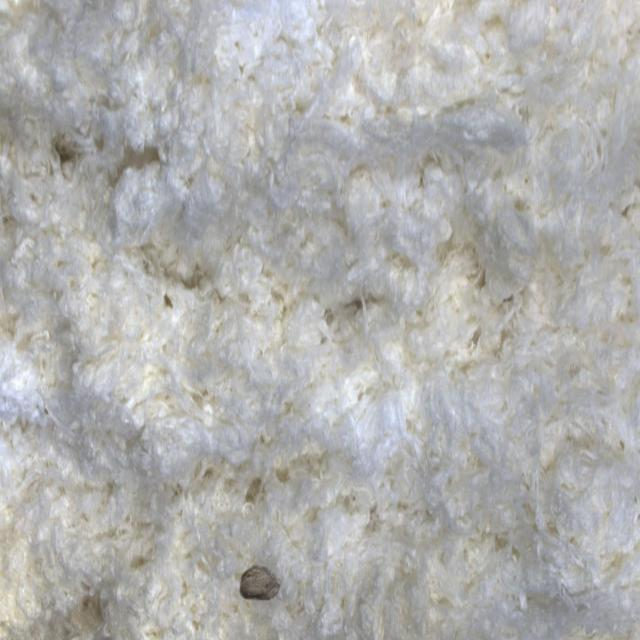dust: (219, 506, 314, 640)
